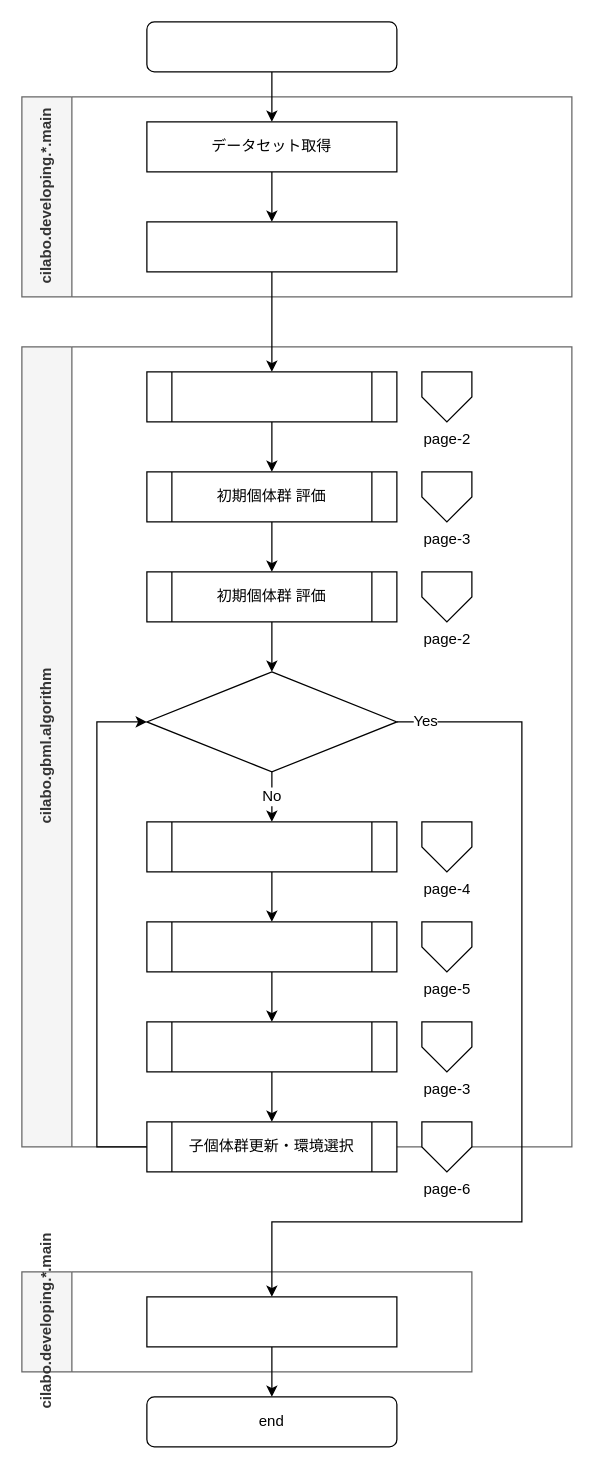
The diagram is 594 pixels wide and 1469 high, and some of its shapes have lost their labels. The shapes that lost their labels are listed below. From the top down, each one's box as (x1, y1, x2, y2) in pixels, then its label:
(146, 21, 397, 72): start
(146, 221, 397, 272): 最適化問題 条件初期化
(146, 371, 397, 422): 初期個体群 生成
(146, 671, 397, 772): 世代数が終了条件を満たすか
(146, 821, 397, 872): 親個体 選択
(146, 921, 397, 972): 子個体 生成
(146, 1021, 397, 1072): 子個体群 評価
(146, 1296, 397, 1347): 実験結果 出力
